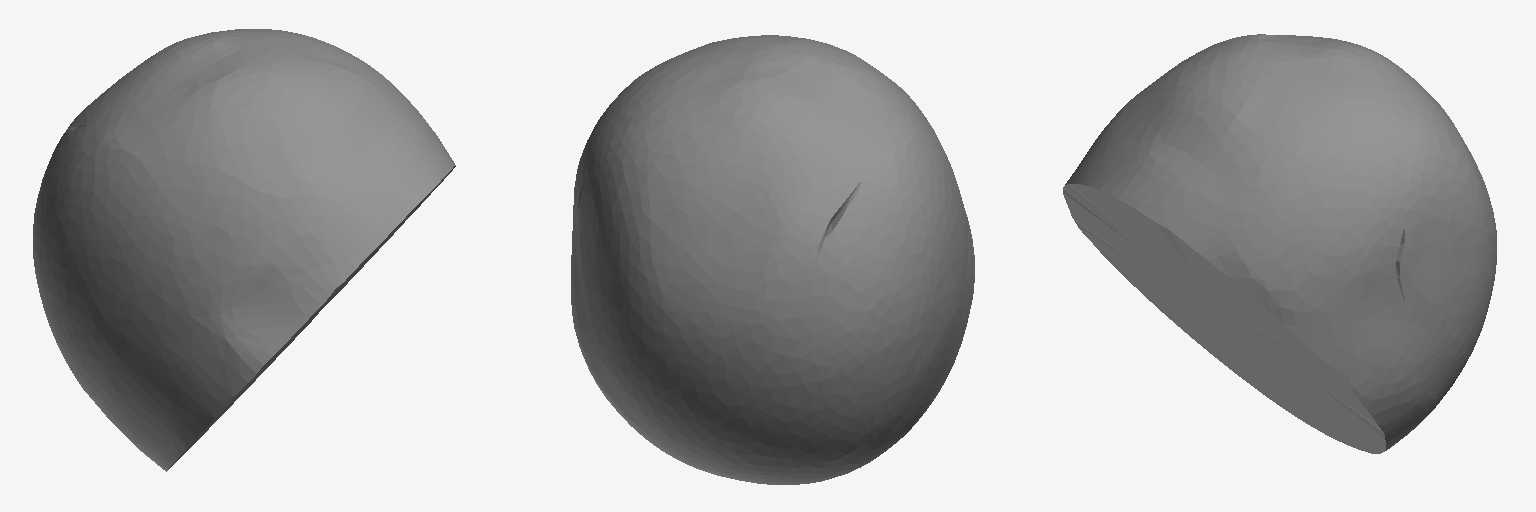
The model's file is half_patato.obj.
3 renders of one model, left to right at view 1: azimuth 30°, elevation 25°; view 2: azimuth 150°, elevation 25°; view 3: azimuth 270°, elevation 25°, orthographic.
Visible parts, largest first — view 1: Potato_2; view 2: Potato_2; view 3: Potato_2.
Boxes of the visible parts, box(x1,y1,x2,y2) form: Potato_2: box(33, 29, 455, 471); Potato_2: box(571, 35, 974, 484); Potato_2: box(1063, 34, 1496, 453).
Bounding box in the file's own units: 46.72 × 50.23 × 49.2.